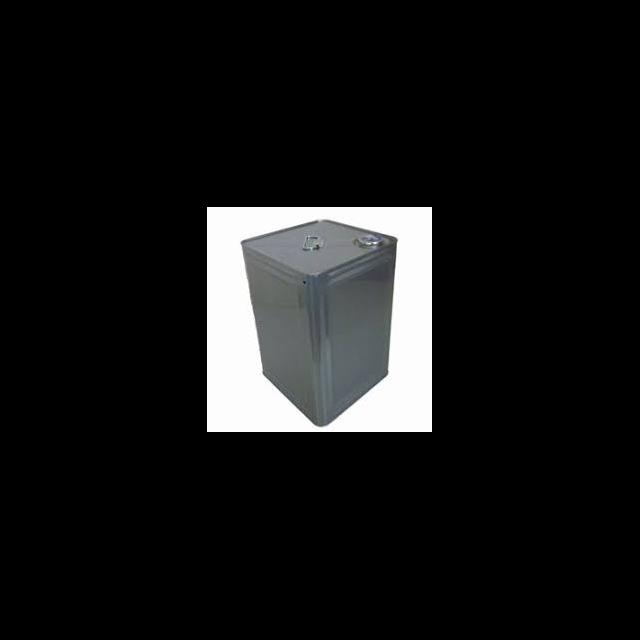metal: (240, 220, 398, 422)
